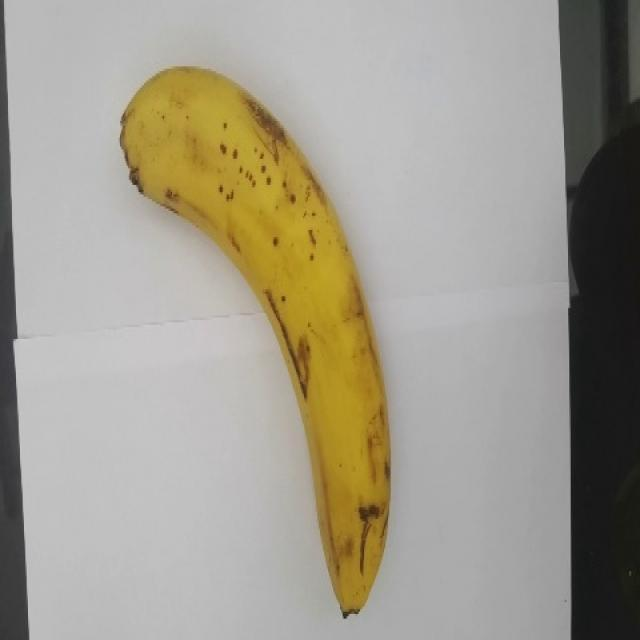Banana: (118, 64, 392, 618)
